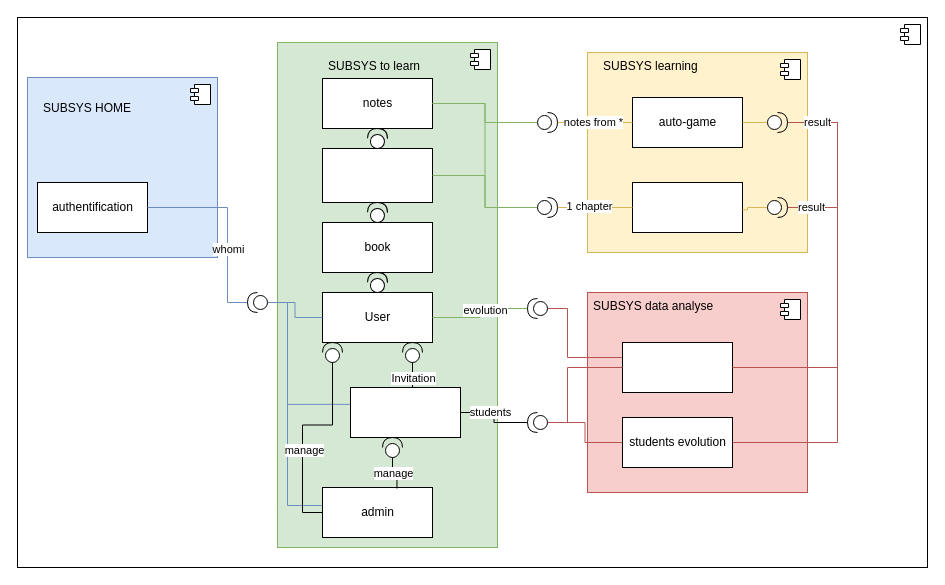
Some shapes in this 945 by 585 pixel diagram are drawn without their labels. Here are the shapes that lost their labels. From the top down, the centre of each, then its label:
point 377,175: chapter
point 687,207: spécifique-game
point 677,367: personal evolution
point 405,412: teacher
